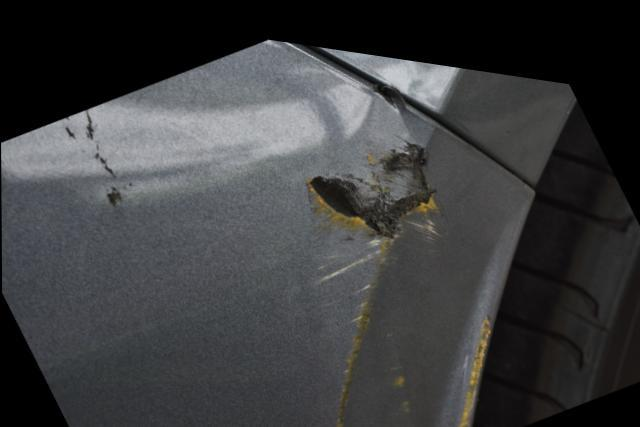scratch: (295, 125, 495, 427)
